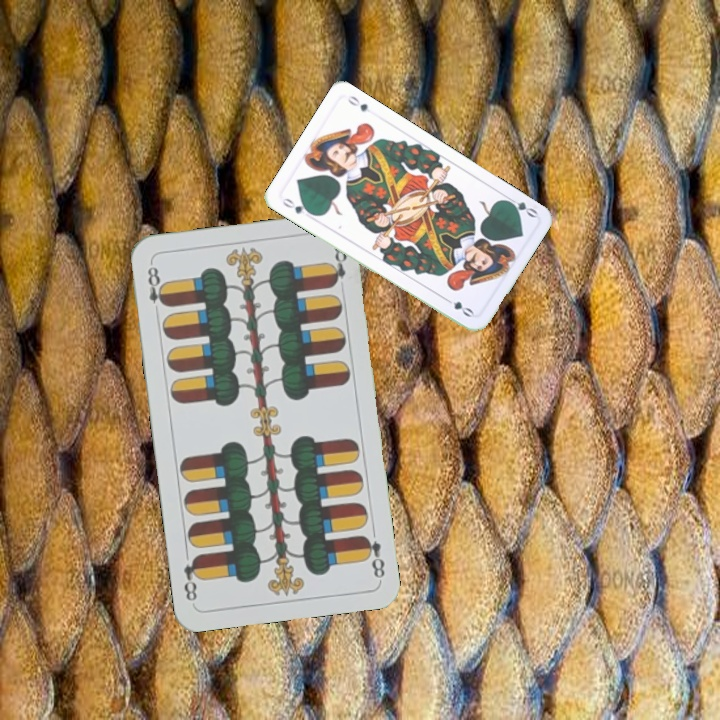E8: (358, 531, 388, 581), (143, 259, 169, 309)
GO: (500, 192, 540, 220), (278, 194, 316, 218)
